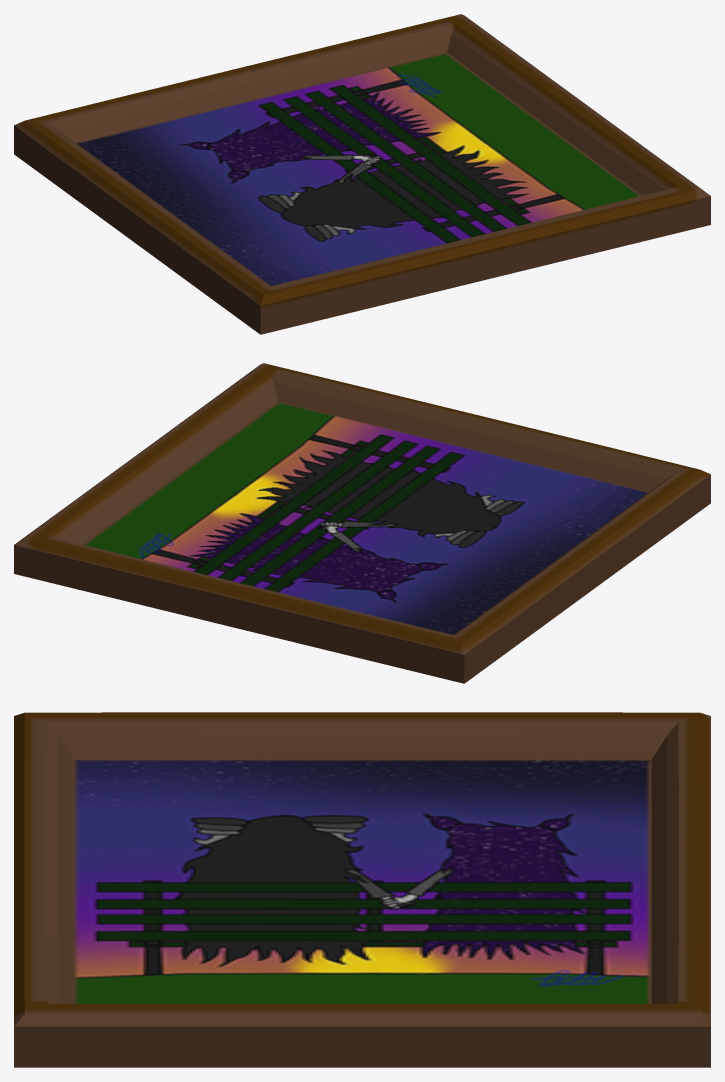
File: Painting4Model.fbx
The picture shows the model from 3 angles, top to bottom: view 1: azimuth 30°, elevation 25°; view 2: azimuth 150°, elevation 25°; view 3: azimuth 270°, elevation 25°; orthographic projection. The views are drawn at different scales.
Parts seen in each view (by area): view 1: pCube17; view 2: pCube17; view 3: pCube17.
Part boxes in pixels (x1,y1,x2,y2): pCube17: (14, 14, 710, 334); pCube17: (14, 363, 710, 683); pCube17: (14, 712, 710, 1067).
Size of the model in its own units: 0.0431 by 0.00319 by 0.0409.
